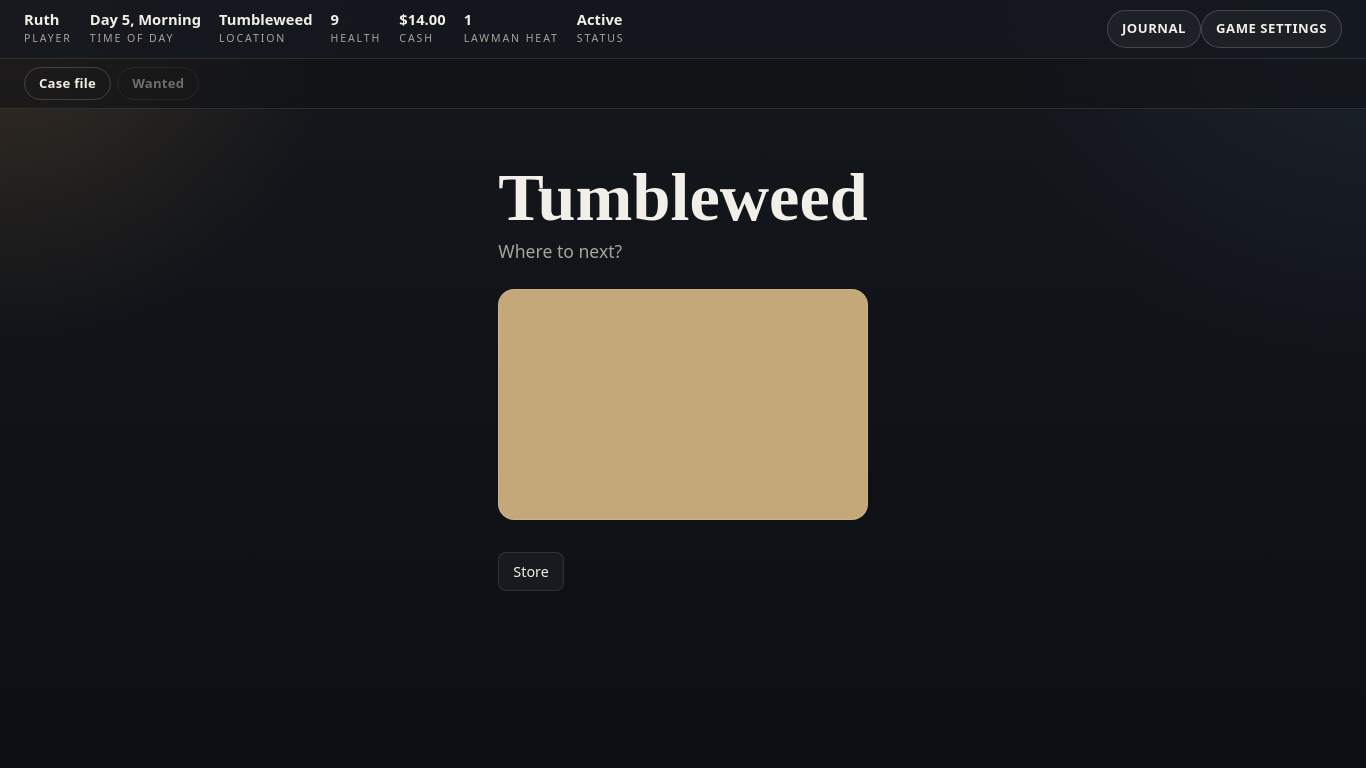
Store purchase feedback › loads town offers only after entering the Store route
The image size is (1366, 768).
Check: the heading "Tumbleweed" is shown, box [498,165,868,230]
Click the button "Store": coordinates (531, 571) [498,552,564,591]
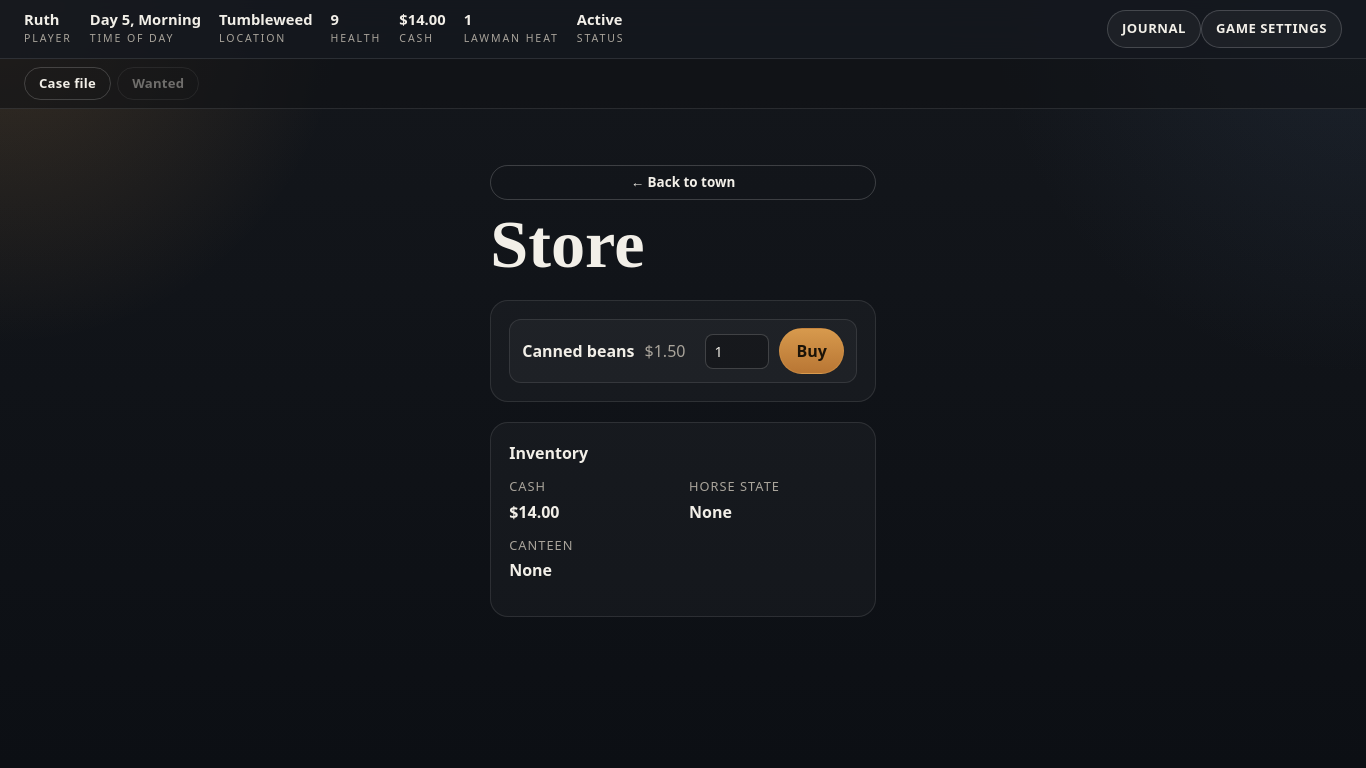
Check: the text "Canned beans" is shown, box [522,339,634,363]
